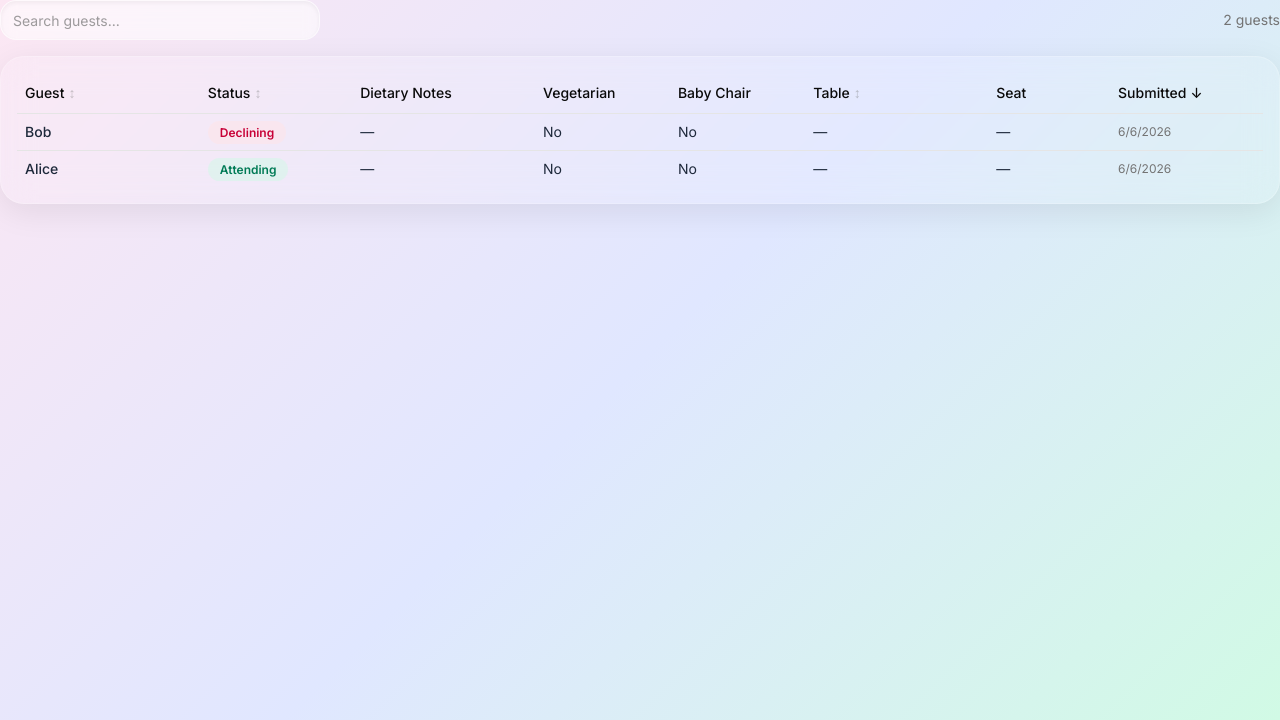
RSVPTable › filters by search query
This screenshot has width=1280, height=720.
Type "alice" into the field with placeholder "Search guests..." at {"x": 160, "y": 20}, box [0,0,320,40]
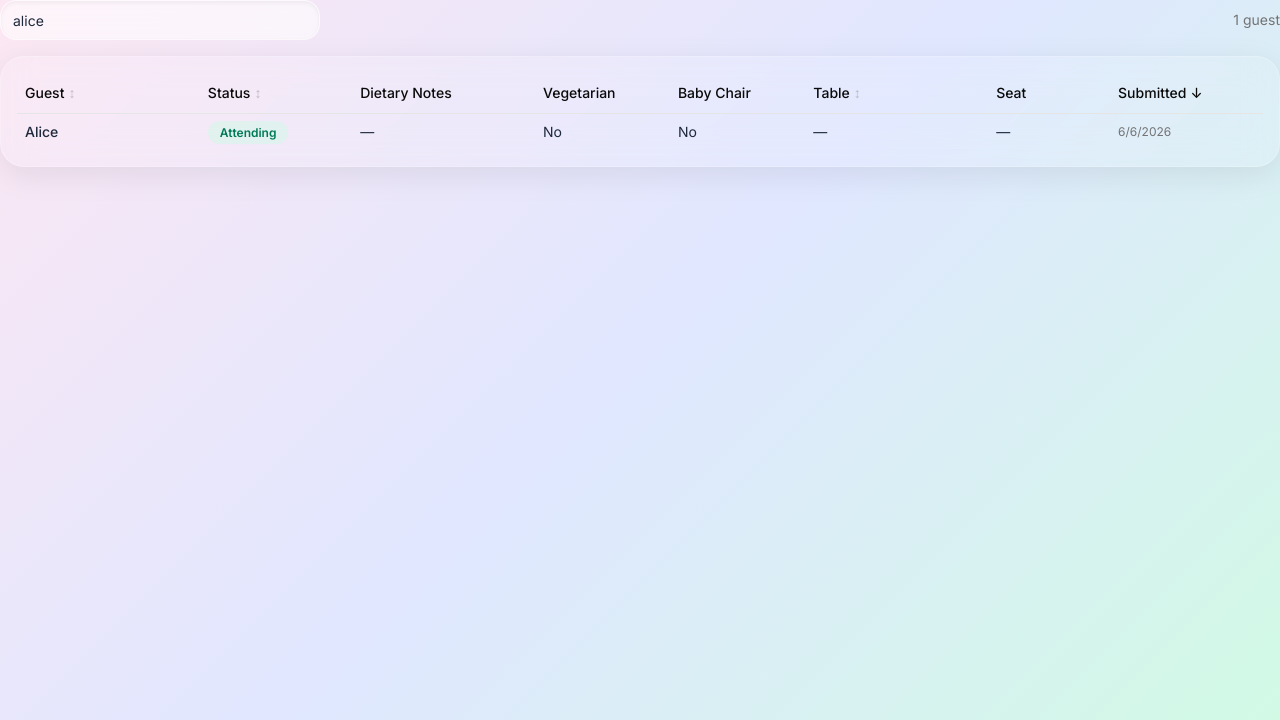
expect the text "Bob" is not shown: met
